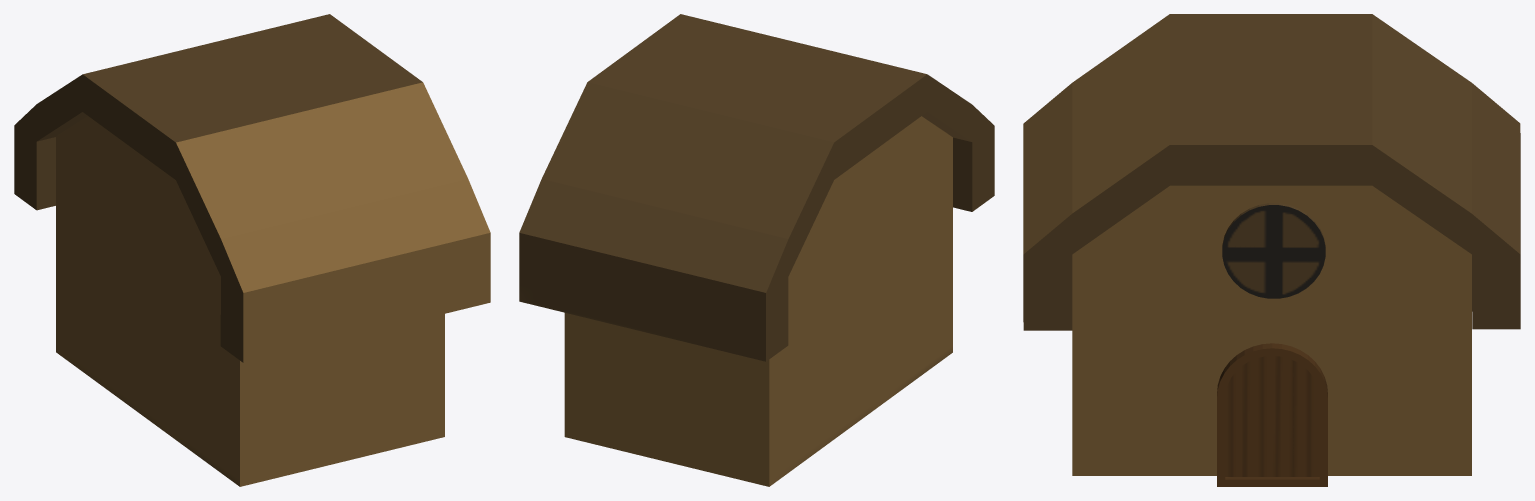
File: BIGHouse.fbx
The picture shows the model from 3 angles, left to right: view 1: azimuth 30°, elevation 25°; view 2: azimuth 150°, elevation 25°; view 3: azimuth 270°, elevation 25°; orthographic projection. The views are drawn at different scales.
Visible parts, largest first — view 1: Cube; view 2: Cube; view 3: Cube, Cube.001, Jendela.
Part boxes in pixels (x1,y1,x2,y2): Cube: [14, 14, 490, 486]; Cube: [519, 14, 994, 486]; Cube: [1023, 14, 1520, 475]; Cube.001: [1217, 343, 1327, 486]; Jendela: [1222, 203, 1325, 298].
Bounding box in the file's own units: 619 × 770 × 994.
